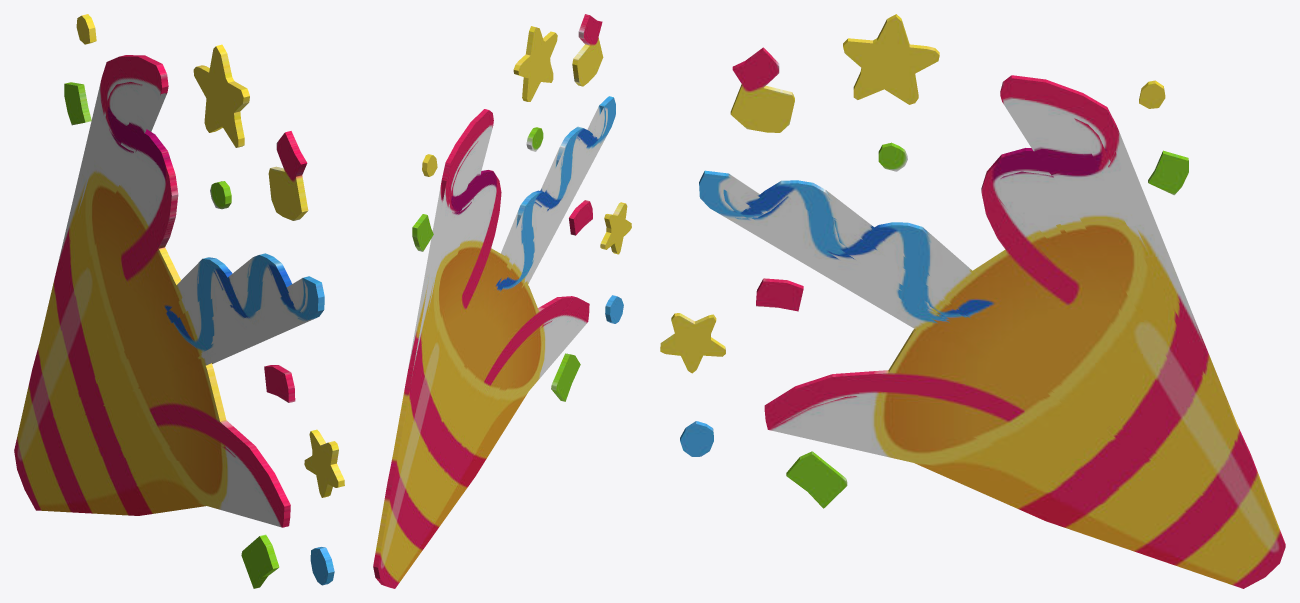
The model's file is party icon.fbx.
3 renders of one model, left to right at view 1: azimuth 30°, elevation 25°; view 2: azimuth 150°, elevation 25°; view 3: azimuth 270°, elevation 25°, orthographic. The views are drawn at different scales.
Visible parts, largest first — view 1: Plane.007; view 2: Plane.007; view 3: Plane.007.
Boxes of the visible parts, box(x1,y1,x2,y2) form: Plane.007: box(14, 14, 344, 588); Plane.007: box(373, 14, 631, 588); Plane.007: box(660, 14, 1285, 588).
Size of the model in its own units: 0.6653 by 41 by 40.68.
Materials: 1 (1 with a texture image).
